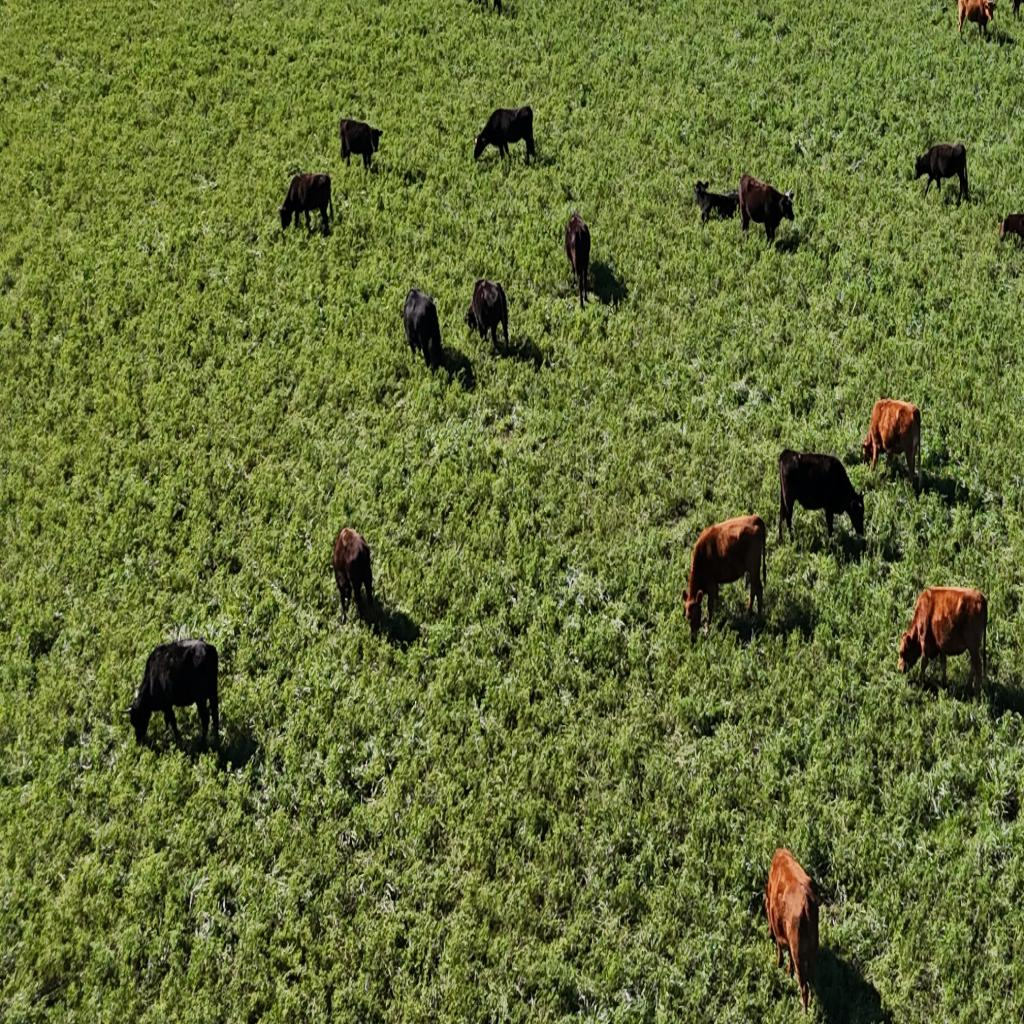cow: (681, 517, 765, 642), (128, 639, 220, 751), (896, 584, 986, 697), (764, 847, 824, 1016), (778, 448, 866, 543), (862, 399, 922, 487), (738, 171, 798, 248), (332, 527, 375, 625), (473, 103, 536, 166), (278, 174, 332, 239), (914, 142, 968, 206), (403, 286, 443, 372), (466, 278, 510, 354), (565, 210, 592, 311), (338, 117, 384, 171), (695, 182, 740, 225), (956, 0, 996, 42), (998, 212, 1022, 247), (464, 302, 484, 340), (470, 0, 502, 16), (1016, 0, 1024, 22)
